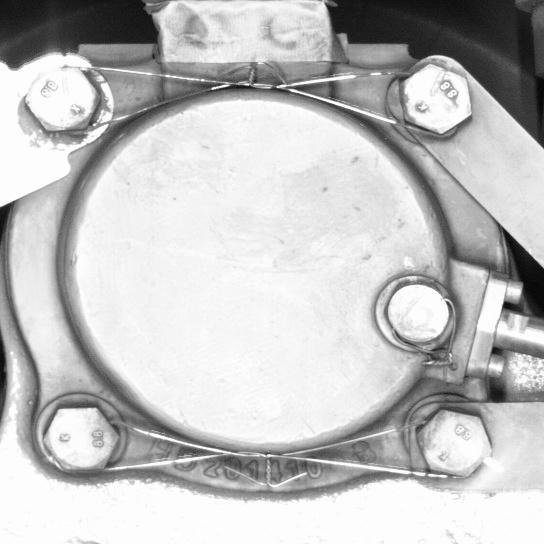IronWire: (18, 55, 477, 143), (36, 399, 500, 486)
Screw: (408, 401, 500, 485), (18, 59, 109, 141), (391, 56, 477, 141), (36, 399, 124, 481), (381, 274, 456, 352)
